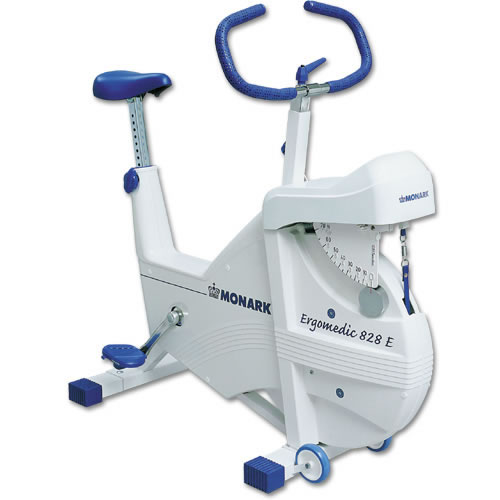gym_bike: (70, 1, 430, 481)
